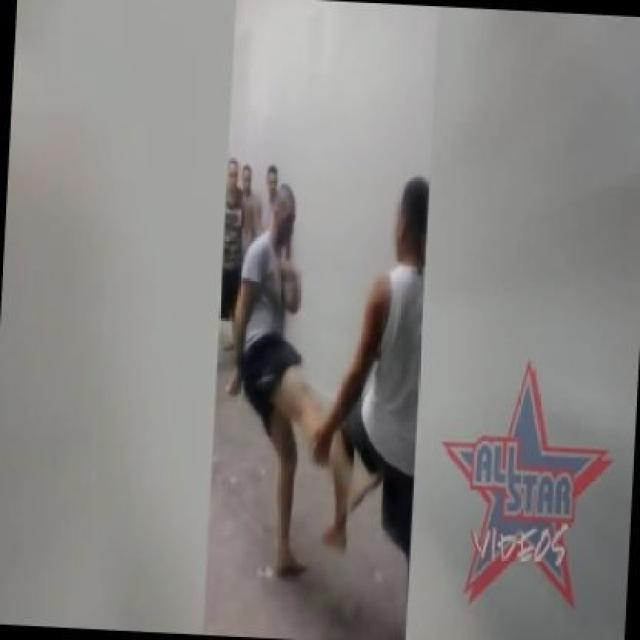fight: (197, 157, 457, 601)
